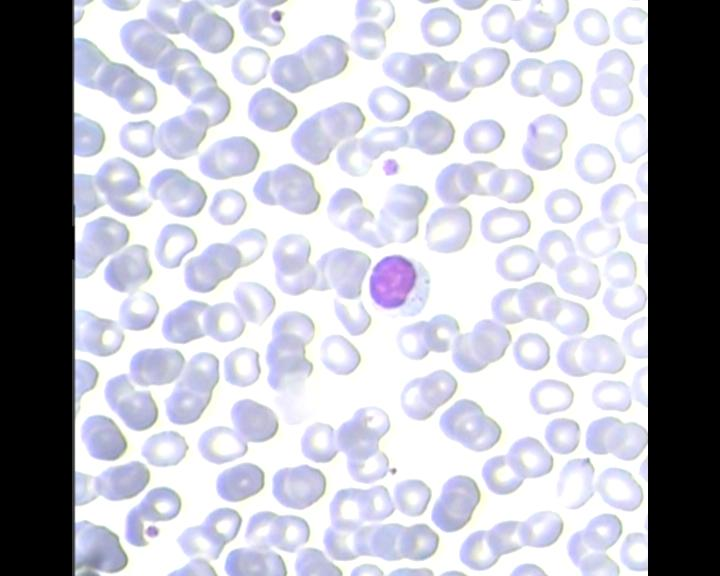lymp: (366, 251, 434, 322)
